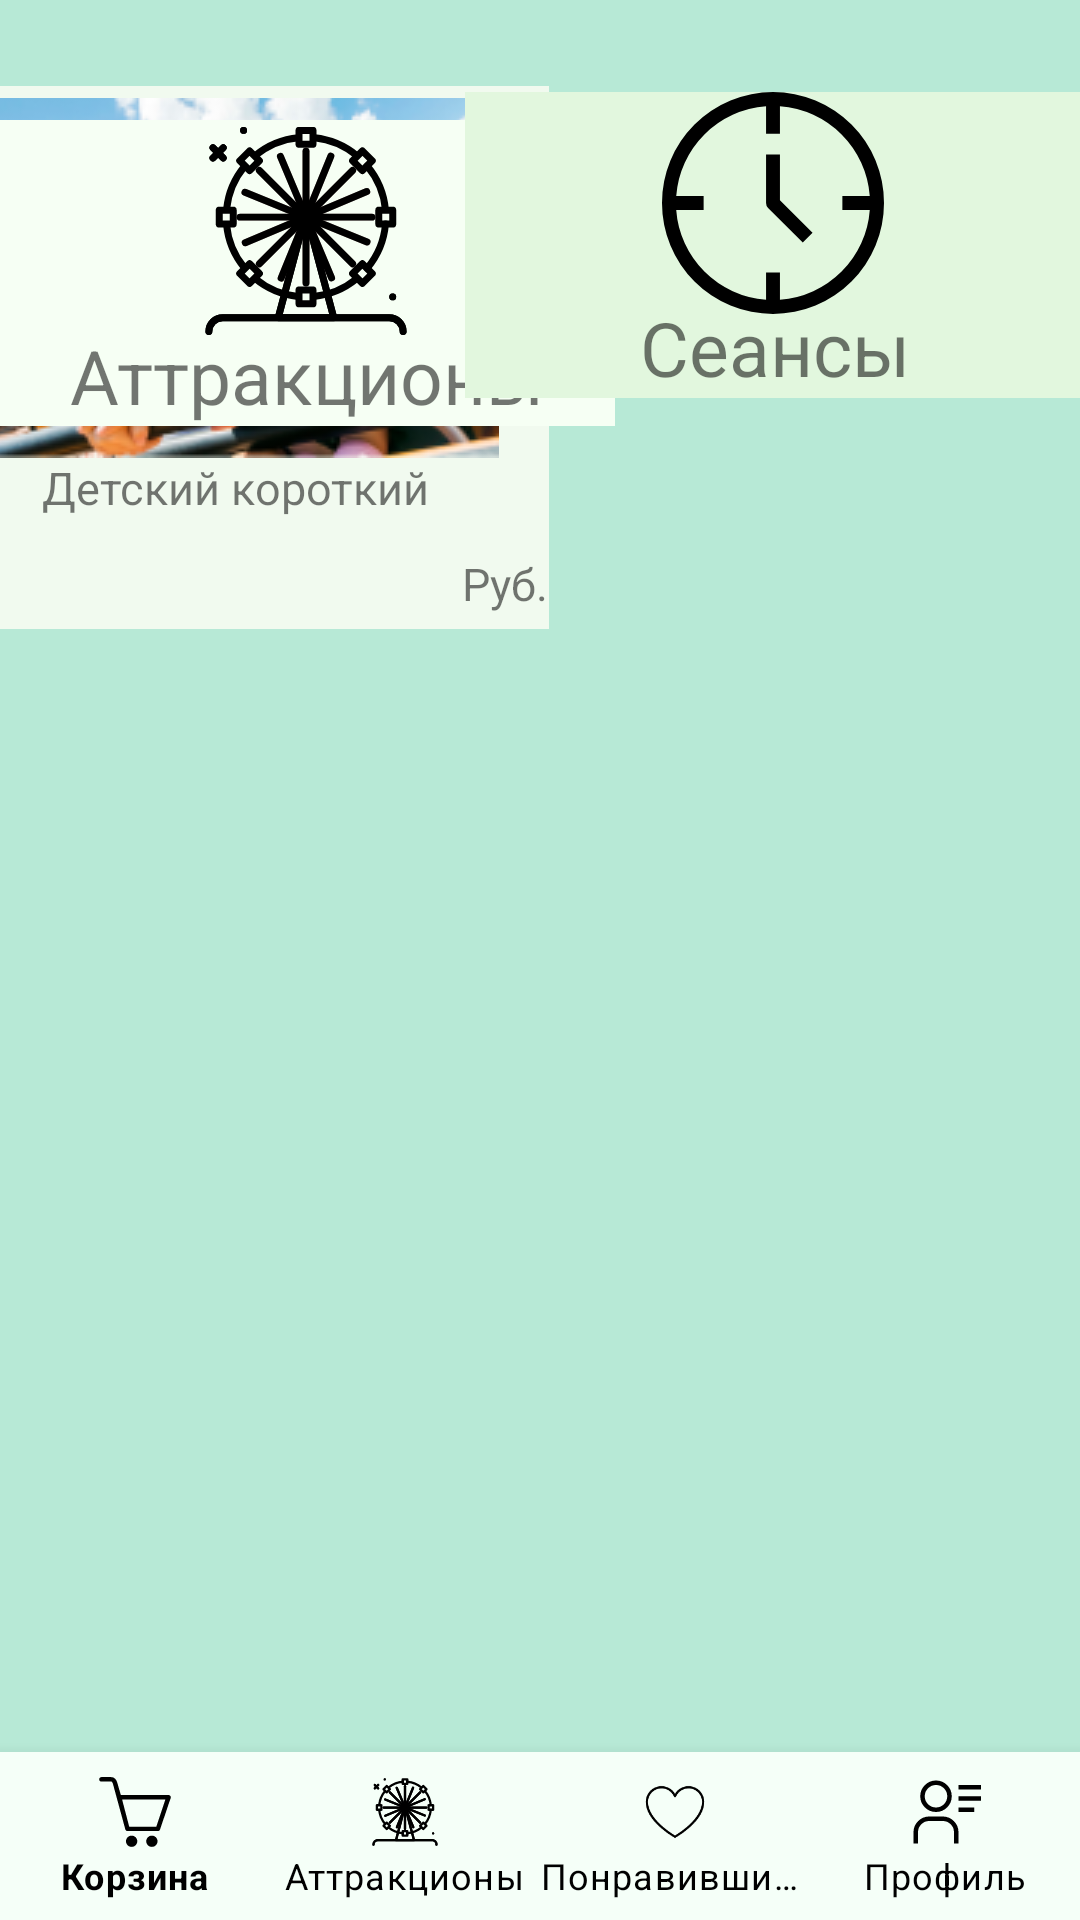

Screen size 1080w x 1920h. Icon name, then its center in pixels as (x=x, y=y):
eye wheel: (x=306, y=231)
time: (x=773, y=203)
